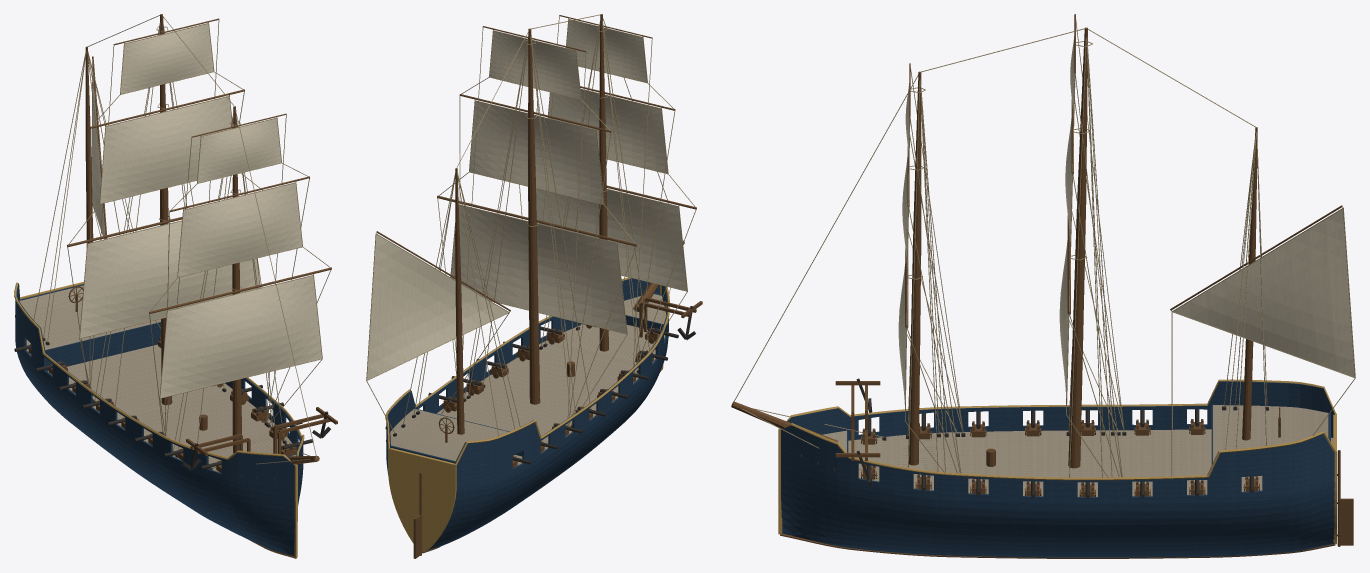
3 views of the same model, side by side, from view 1: azimuth 30°, elevation 25°; view 2: azimuth 150°, elevation 25°; view 3: azimuth 270°, elevation 25° (orthographic). The views are drawn at different scales.
Visible parts, largest first — view 1: lod2_hull_shell_starboard, lod2_fore_square_00, lod2_main_square_00, lod2_main_deck, lod2_main_square_01, lod2_fore_square_01, lod2_main_square_02, lod2_fore_square_02, lod2_castle_deck_0, lod2_castle_bulkhead_0_1, lod2_hull_shell_port, lod2_mizzen (+7 smaller); view 2: lod2_main_square_00, lod2_hull_shell_starboard, lod2_main_deck, lod2_mizzen_lateen_00, lod2_main_square_01, lod2_fore_square_00, lod2_fore_square_01, lod2_stern_closure, lod2_main_square_02, lod2_castle_deck_0, lod2_fore_square_02, lod2_main (+16 smaller); view 3: lod2_hull_shell_port, lod2_mizzen_lateen_00, lod2_main_deck, lod2_hull_shell_starboard, lod2_main, lod2_castle_deck_0, lod2_fore, lod2_gunwale_port, lod2_mizzen, lod2_gunwale_starboard, lod2_keel, lod2_main_square_00.
Boxes of the visible parts, x1,y1,x2,y2 form: lod2_hull_shell_starboard: (15, 283, 294, 555); lod2_fore_square_00: (160, 276, 321, 397); lod2_main_square_00: (80, 221, 259, 337); lod2_main_deck: (26, 339, 292, 472); lod2_main_square_01: (100, 96, 232, 203); lod2_fore_square_01: (178, 183, 302, 276); lod2_main_square_02: (120, 23, 213, 93); lod2_fore_square_02: (197, 118, 281, 182); lod2_castle_deck_0: (19, 285, 160, 349); lod2_castle_bulkhead_0_1: (45, 322, 160, 371); lod2_hull_shell_port: (225, 378, 303, 505); lod2_mizzen: (85, 47, 93, 247); lod2_main_square_00: (451, 205, 626, 333); lod2_hull_shell_starboard: (426, 285, 668, 550); lod2_main_deck: (437, 324, 665, 466); lod2_mizzen_lateen_00: (367, 234, 508, 379); lod2_main_square_01: (469, 101, 603, 204); lod2_fore_square_00: (536, 188, 687, 290); lod2_fore_square_01: (548, 89, 667, 173); lod2_stern_closure: (388, 448, 456, 552); lod2_main_square_02: (489, 31, 580, 98); lod2_castle_deck_0: (390, 409, 508, 460); lod2_fore_square_02: (566, 19, 647, 82); lod2_main: (528, 28, 540, 404); lod2_hull_shell_port: (781, 425, 1334, 557); lod2_mizzen_lateen_00: (1173, 209, 1354, 377); lod2_main_deck: (848, 429, 1333, 496); lod2_hull_shell_starboard: (787, 381, 1334, 440); lod2_main: (1068, 27, 1087, 468); lod2_castle_deck_0: (1213, 405, 1328, 461); lod2_fore: (908, 71, 921, 465); lod2_gunwale_port: (780, 423, 1336, 480); lod2_mizzen: (1242, 127, 1257, 440); lod2_gunwale_starboard: (786, 379, 1336, 421); lod2_keel: (780, 533, 1335, 558); lod2_main_square_00: (1059, 240, 1068, 398).
Size of the model in its own units: 13.03 by 28.52 by 30.4.
Materials: 7 (7 with a texture image).
